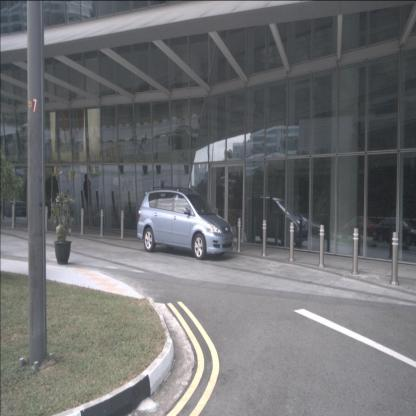vehicle-car: (137, 189, 233, 260), (244, 196, 310, 248), (371, 218, 416, 246), (342, 215, 377, 238)
